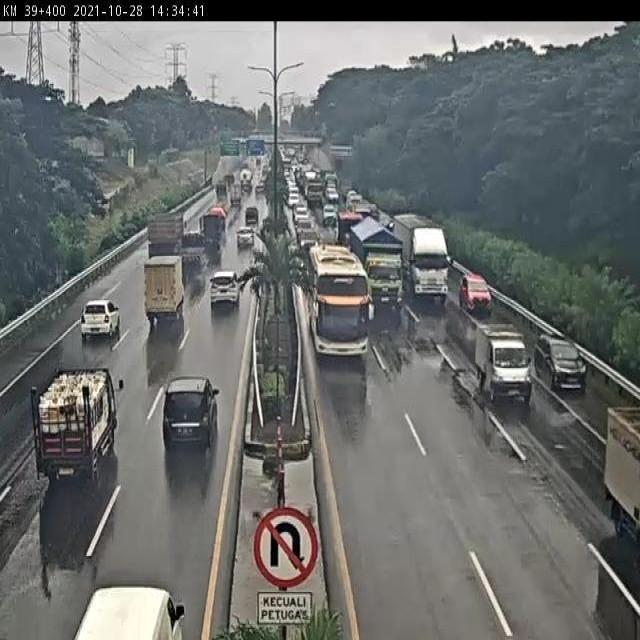big bus: (299, 242, 375, 366)
big truck: (360, 221, 408, 320), (409, 219, 455, 313), (139, 207, 192, 260)
car: (147, 356, 227, 473), (63, 585, 195, 640), (471, 308, 535, 411), (66, 287, 131, 361), (531, 323, 595, 397), (201, 254, 248, 326), (455, 264, 496, 317), (231, 222, 259, 255)
small truck: (17, 356, 134, 512), (594, 373, 640, 539), (132, 243, 198, 345)
